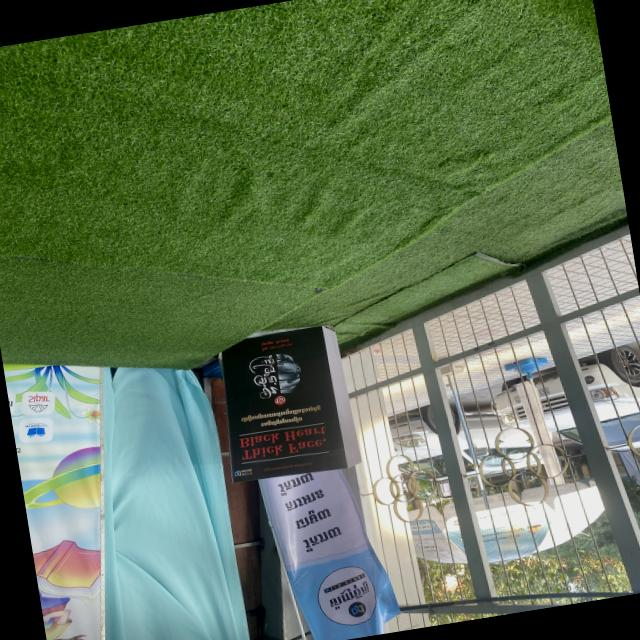1: (276, 338, 291, 345)
Yolov11kh: (323, 578, 372, 614), (238, 403, 323, 423), (301, 523, 345, 555), (292, 501, 336, 532), (276, 470, 318, 499), (281, 487, 327, 512), (248, 354, 279, 376), (257, 416, 305, 429), (251, 373, 280, 388), (257, 382, 279, 400), (261, 364, 279, 378), (274, 395, 285, 404), (260, 340, 274, 347), (261, 346, 268, 352)
